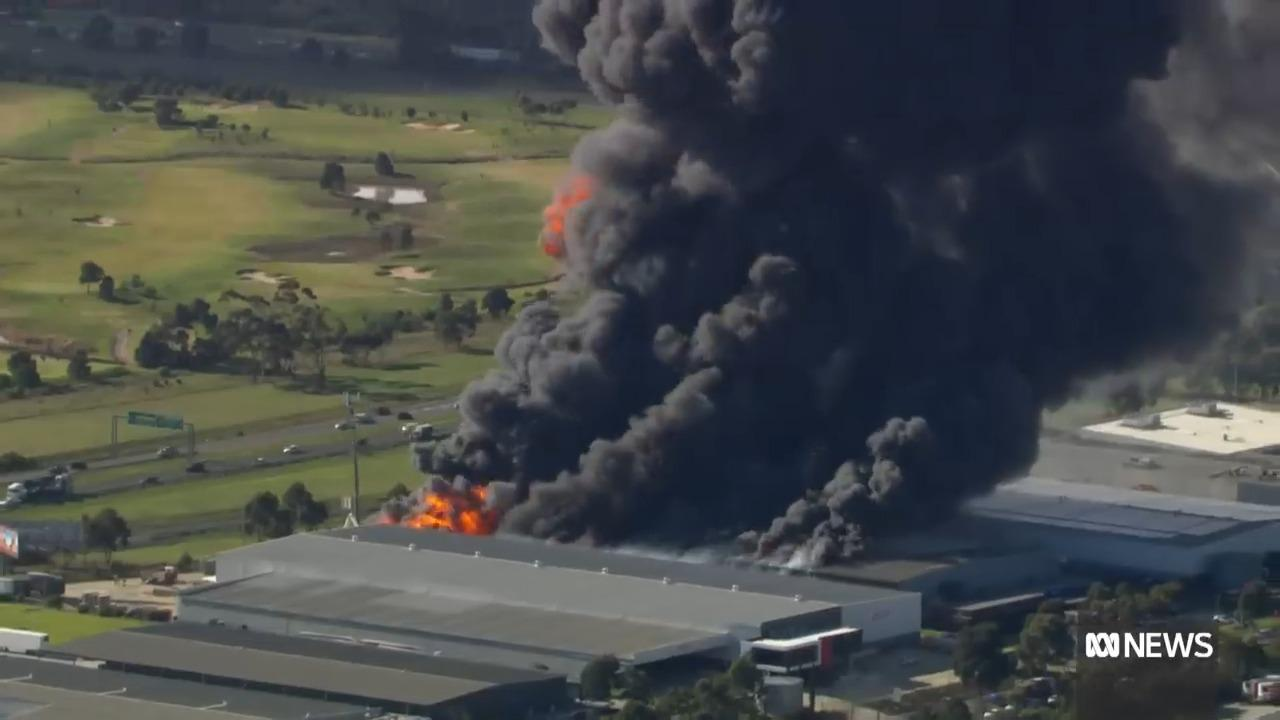fire: (412, 479, 497, 534)
